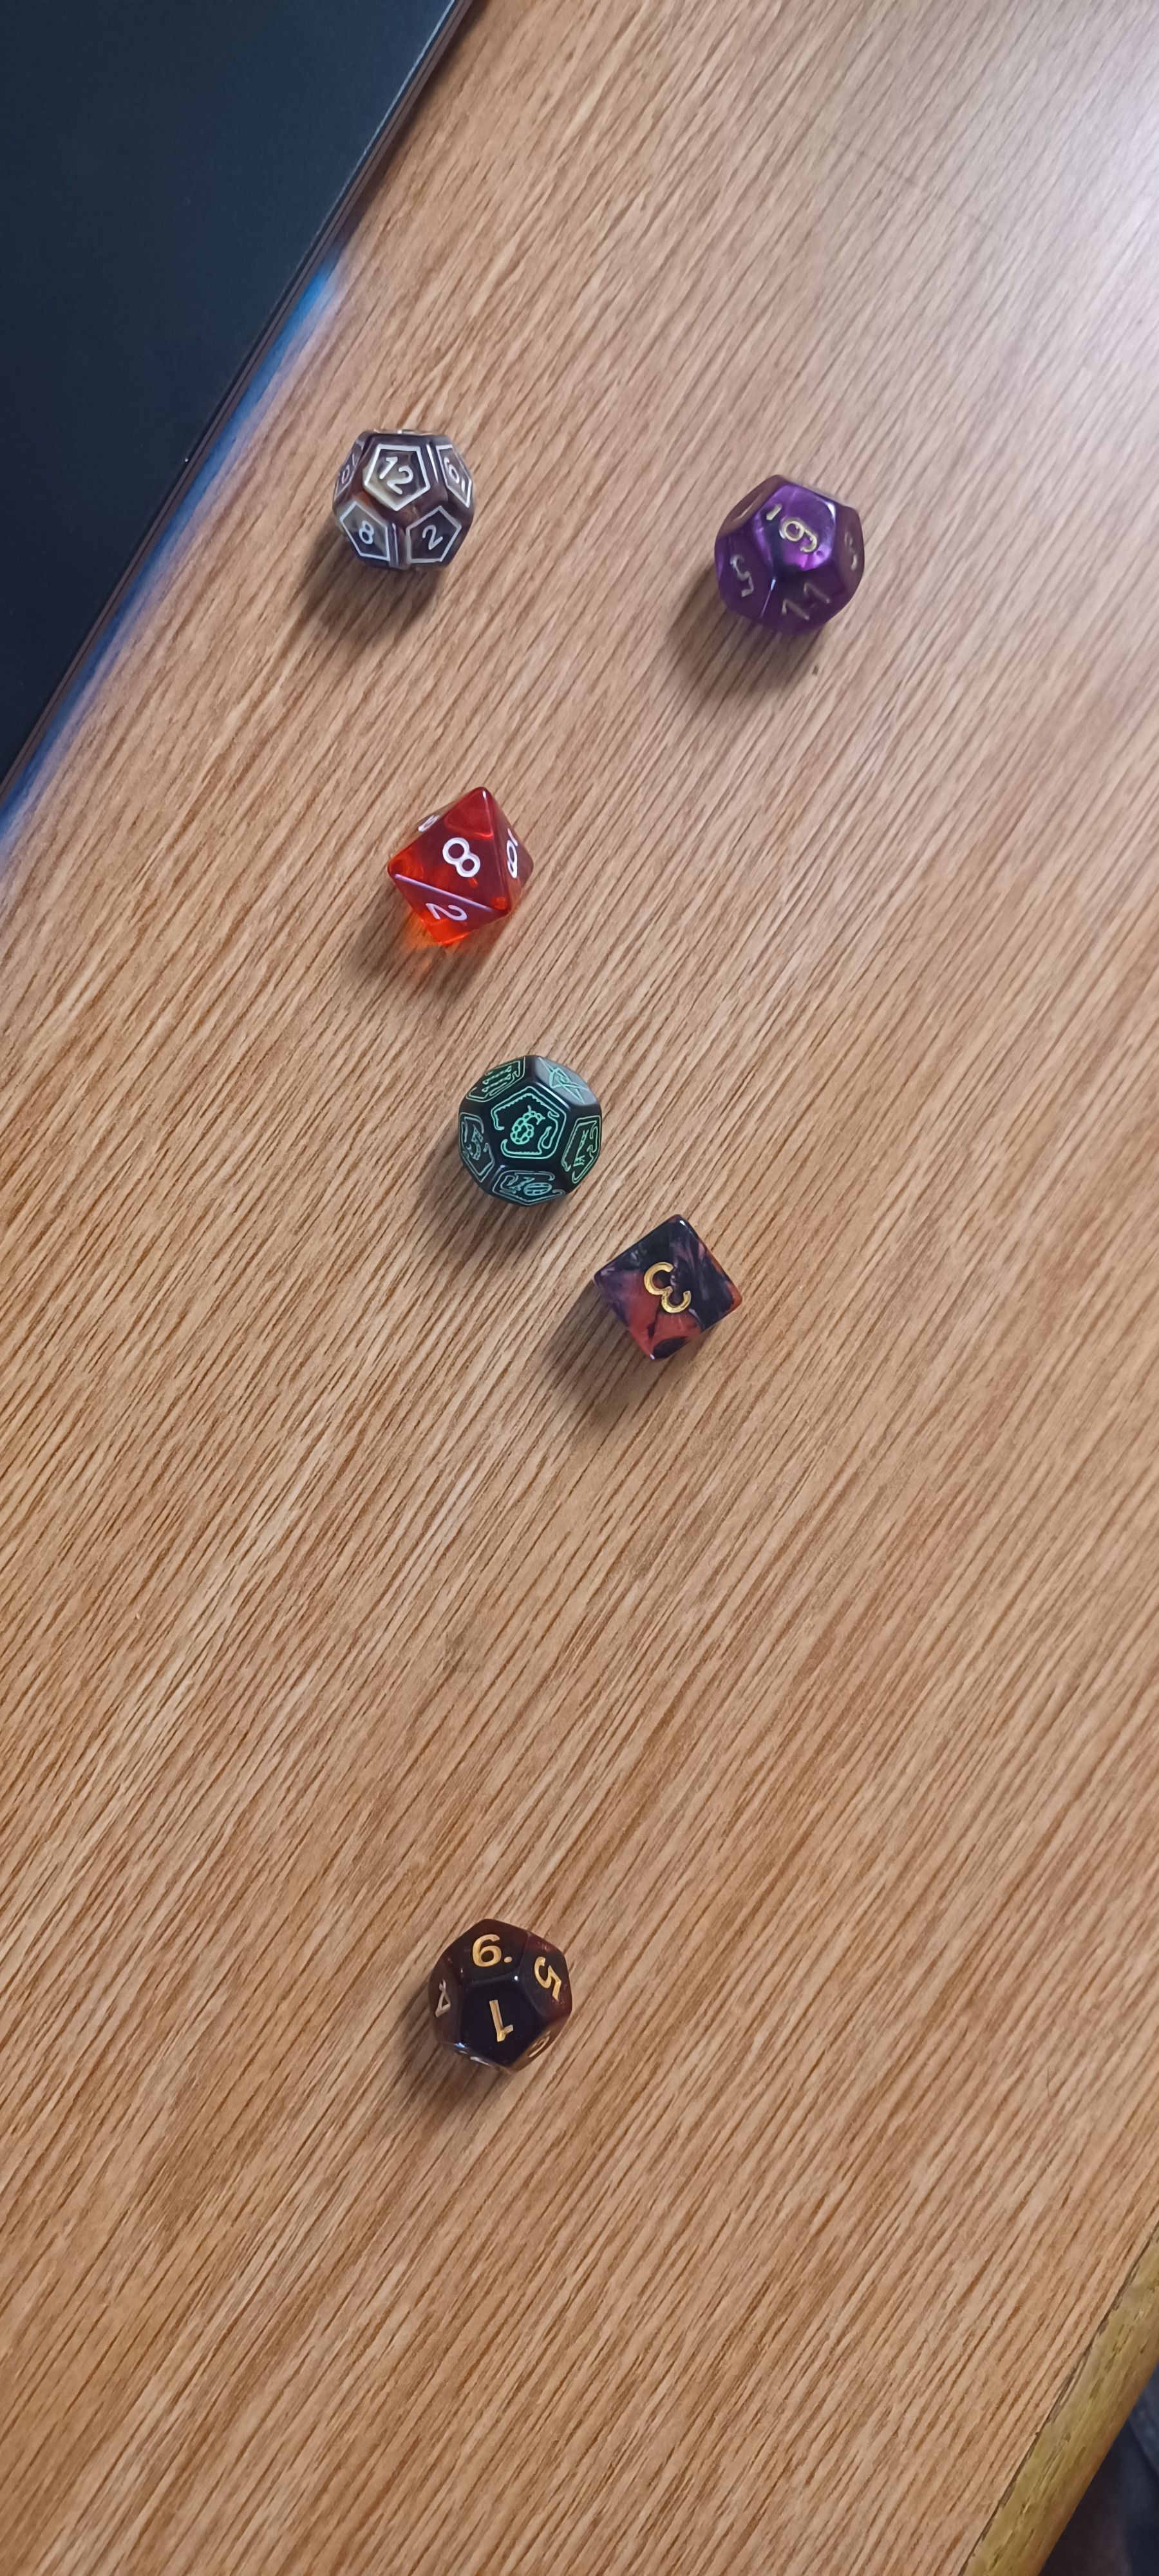eight: (351, 766, 561, 971)
nine: (422, 1015, 637, 1222)
one: (404, 1889, 606, 2091)
six: (642, 430, 916, 669)
three: (578, 1201, 770, 1388)
twelve: (312, 398, 514, 613)
